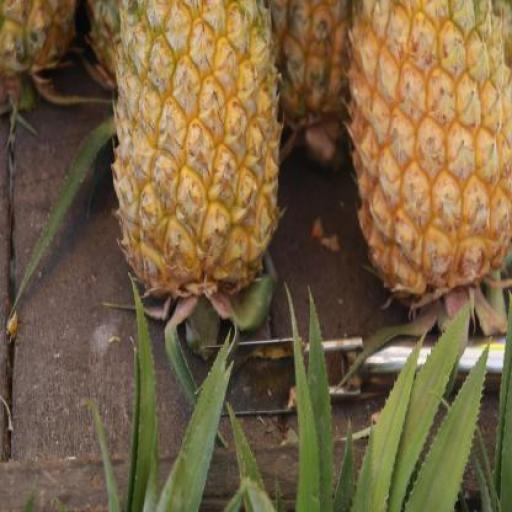Pineapple - v8 v1: (113, 0, 296, 293), (351, 0, 512, 287)
